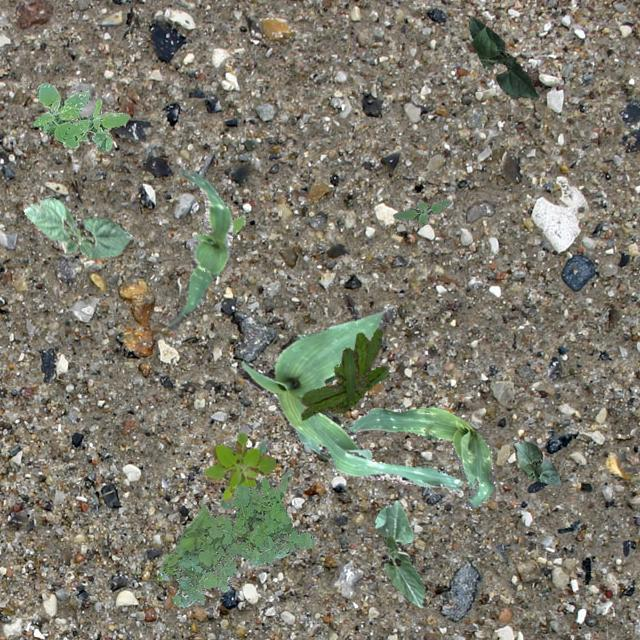crop: (235, 304, 460, 492), (348, 406, 494, 508), (164, 166, 232, 330), (22, 195, 130, 258), (468, 17, 538, 98), (374, 498, 426, 606), (512, 440, 560, 486)
weed: (156, 468, 314, 606), (299, 328, 386, 418), (33, 82, 128, 150), (202, 432, 276, 501), (218, 438, 274, 508), (392, 198, 450, 224), (198, 214, 244, 238)
